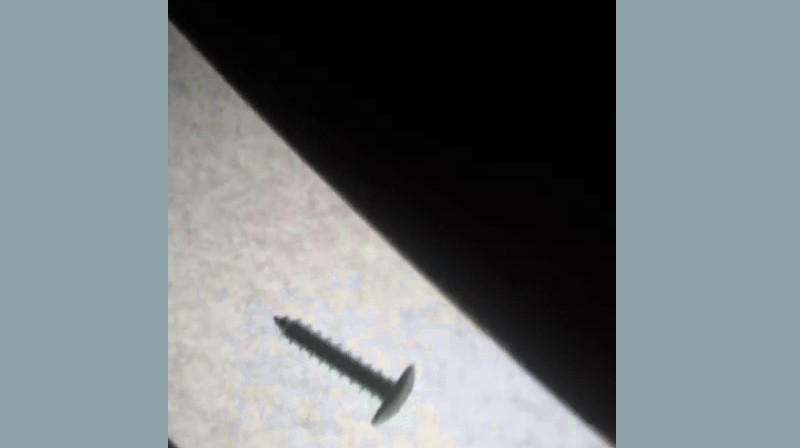S003: (269, 311, 420, 427)
